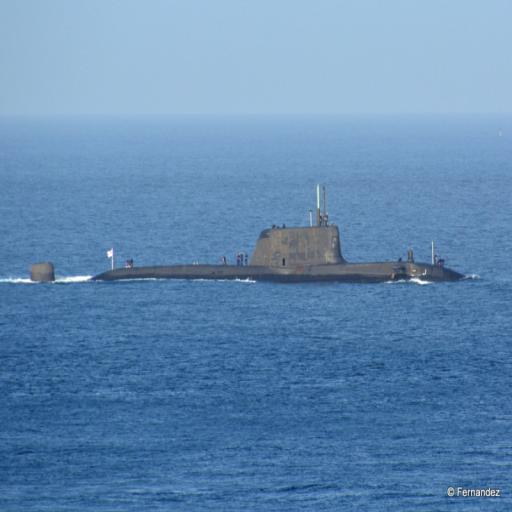submarine: (27, 183, 464, 279)
